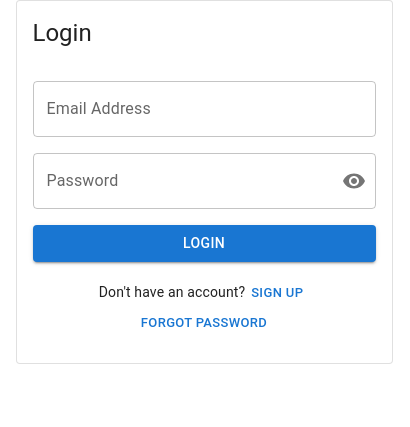
Test: <LoginForm> component testing › The Form Fields should error out on Error 401
The width and height of the screenshot is (410, 427).
Type "testing@test.com" into the field labelled "Email Address".
click(204, 109); type("testing@test.com")  # box top-left (32, 81), bottom-right (376, 137)
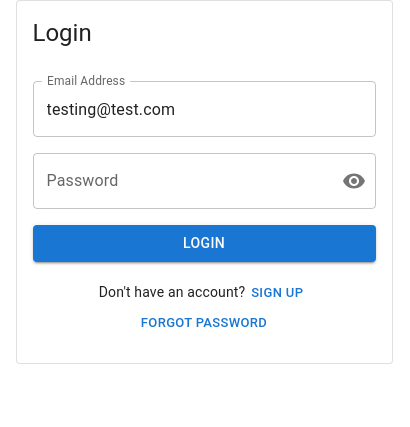
Type "Passw@1234" into the password field with test id "passwordTestInput".
click(179, 181); type("Passw@1234")  # box top-left (32, 153), bottom-right (326, 209)
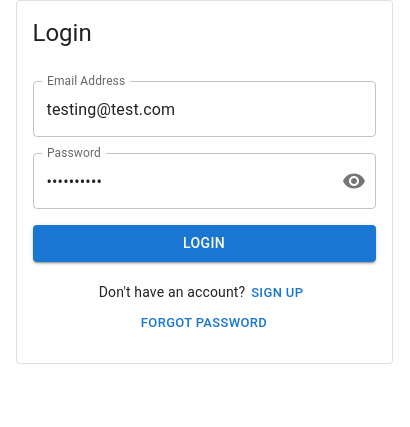
Click the button "Login".
click(204, 243)  # box top-left (32, 225), bottom-right (376, 262)
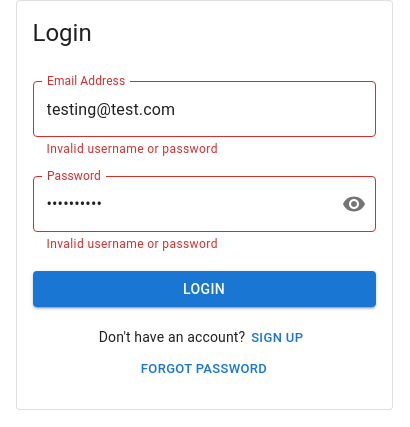
Expected: the text "Invalid username or password" is shown 2 times, top-left (46, 142), bottom-right (218, 156); top-left (46, 237), bottom-right (218, 251)
